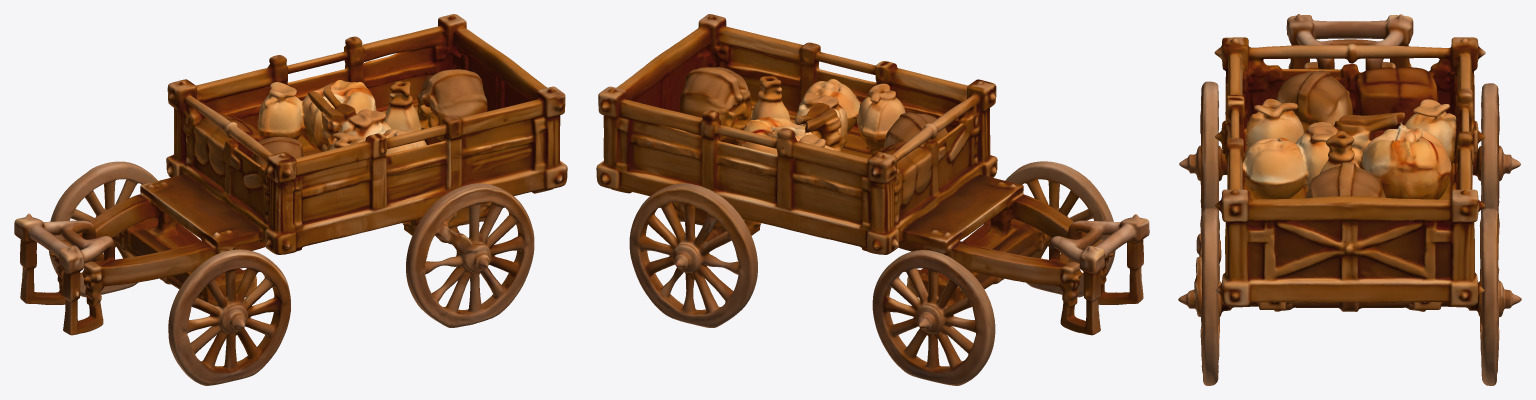
File: item_ambiente_md_4.glb
3 views of the same model, side by side, from view 1: azimuth 30°, elevation 25°; view 2: azimuth 150°, elevation 25°; view 3: azimuth 270°, elevation 25° (orthographic). The views are drawn at different scales.
Visible parts, largest first — view 1: geometry_0; view 2: geometry_0; view 3: geometry_0.
Part boxes in pixels (x1=…): geometry_0: x1=14, y1=14, x2=567, y2=385; geometry_0: x1=596, y1=14, x2=1149, y2=385; geometry_0: x1=1178, y1=14, x2=1521, y2=385.
Size of the model in its own units: 1.91 by 0.7928 by 1.03.
1 material, 1 textured.
